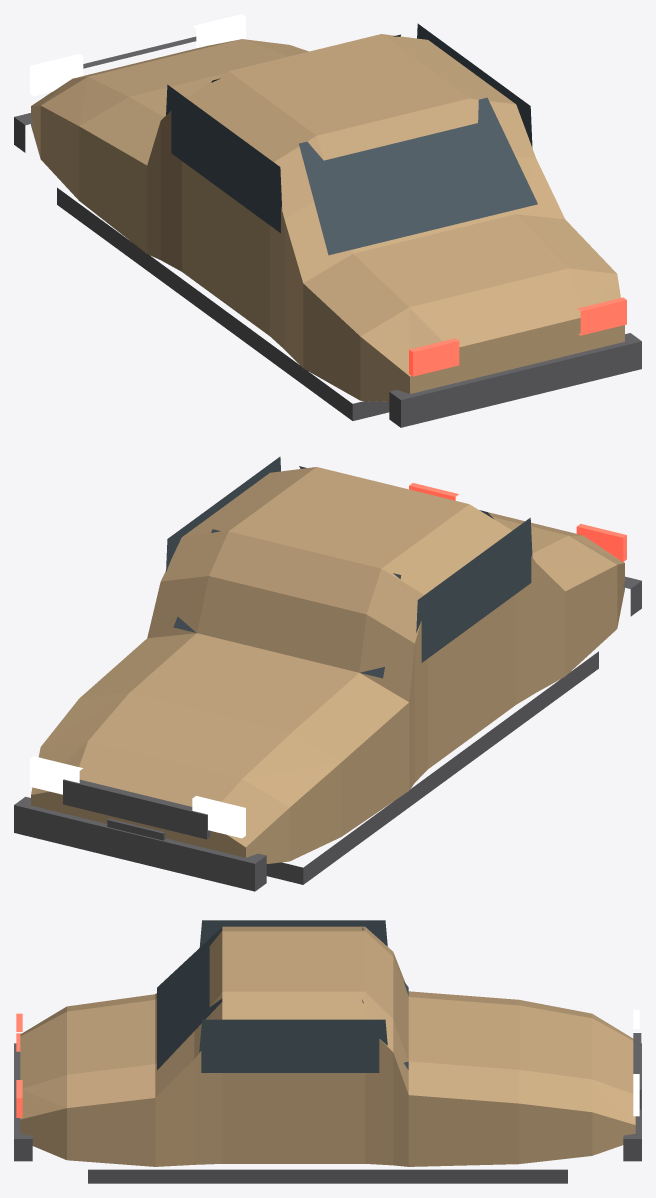
Rendered from zastava_101.glb.
3 views of the same model, one above another, from view 1: azimuth 30°, elevation 25°; view 2: azimuth 150°, elevation 25°; view 3: azimuth 270°, elevation 25° (orthographic). The views are drawn at different scales.
Parts seen in each view (by area): view 1: car_body; view 2: car_body; view 3: car_body.
Boxes of the visible parts, <box> form: car_body: <box>14,14,641,427</box>; car_body: <box>14,456,641,891</box>; car_body: <box>14,920,641,1183</box>.
Size of the model in its own units: 1.58 by 1.23 by 4.04.
